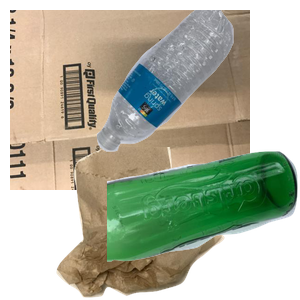cardboard: (10, 10, 250, 190)
glass: (107, 149, 300, 300)
plastic: (94, 10, 300, 154)
trash: (54, 147, 271, 300)
